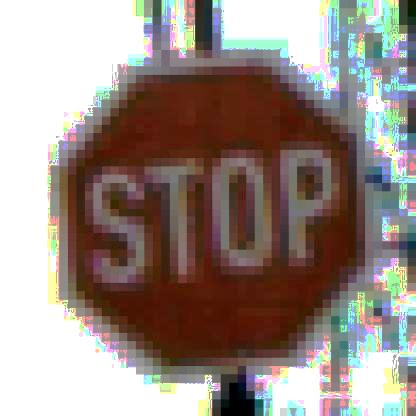Stop Sign: (47, 43, 372, 378)
